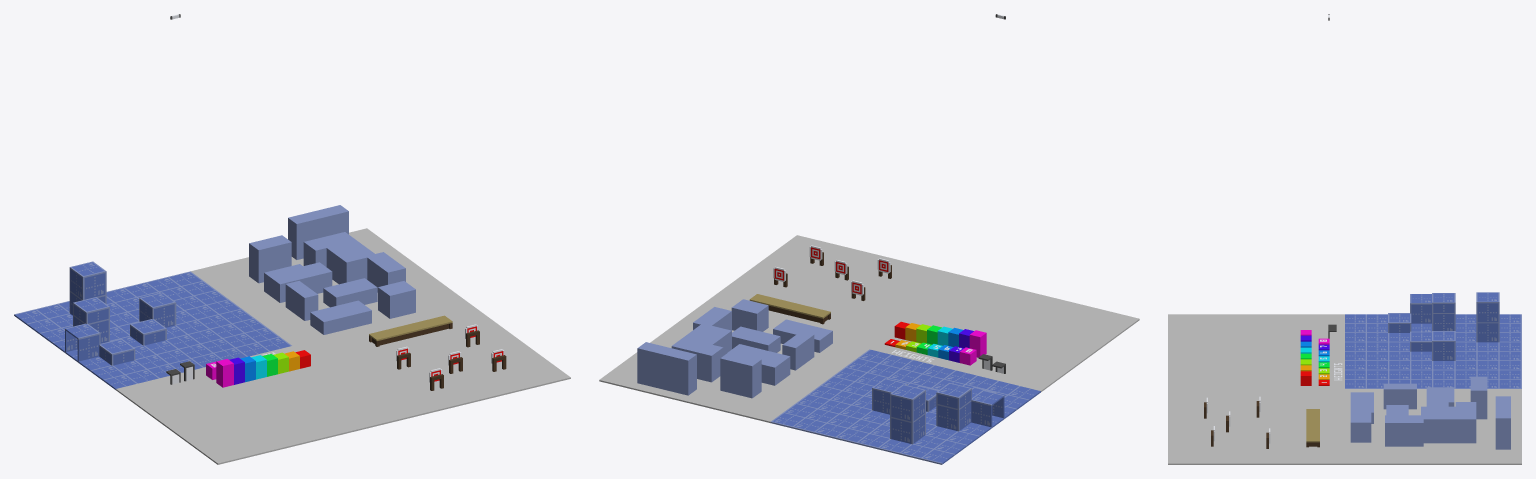
The model's file is s_debug.obj.
3 views of the same model, side by side, from view 1: azimuth 30°, elevation 25°; view 2: azimuth 150°, elevation 25°; view 3: azimuth 270°, elevation 25° (orthographic). The views are drawn at different scales.
Bounding box in the file's own units: 25.6 × 25.6 × 25.6.
Materials: 1 (1 with a texture image).
